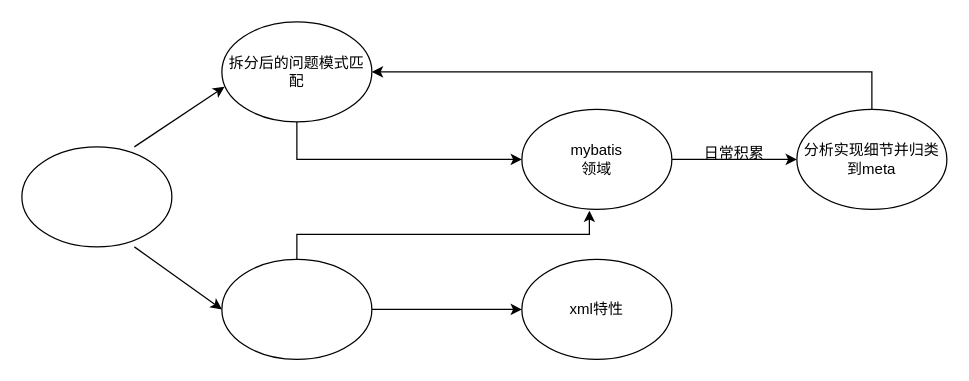
The diagram is 969 pixels wide and 381 high, and some of its shapes have lost their labels. The box of each missing label's shape, as (x1, y1, x2, y2) in pixels:
打开mapper后思考到注意点: (221, 258, 372, 359)
需要: (21, 146, 172, 247)
